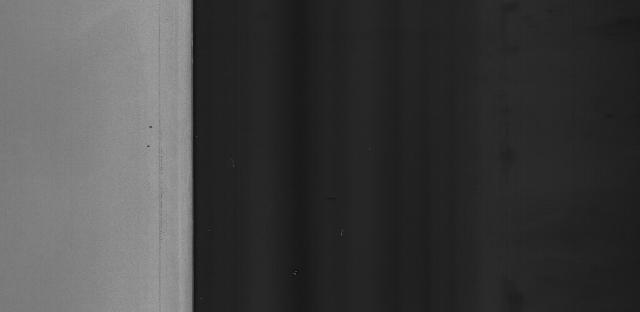inclusion: (142, 142, 154, 153), (146, 121, 155, 134)
